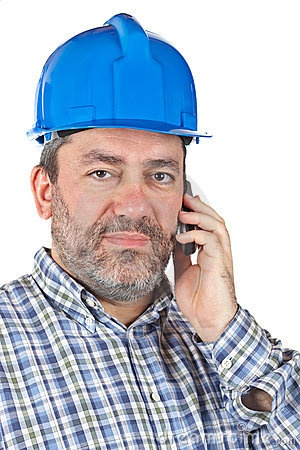blue: (28, 16, 209, 302)
